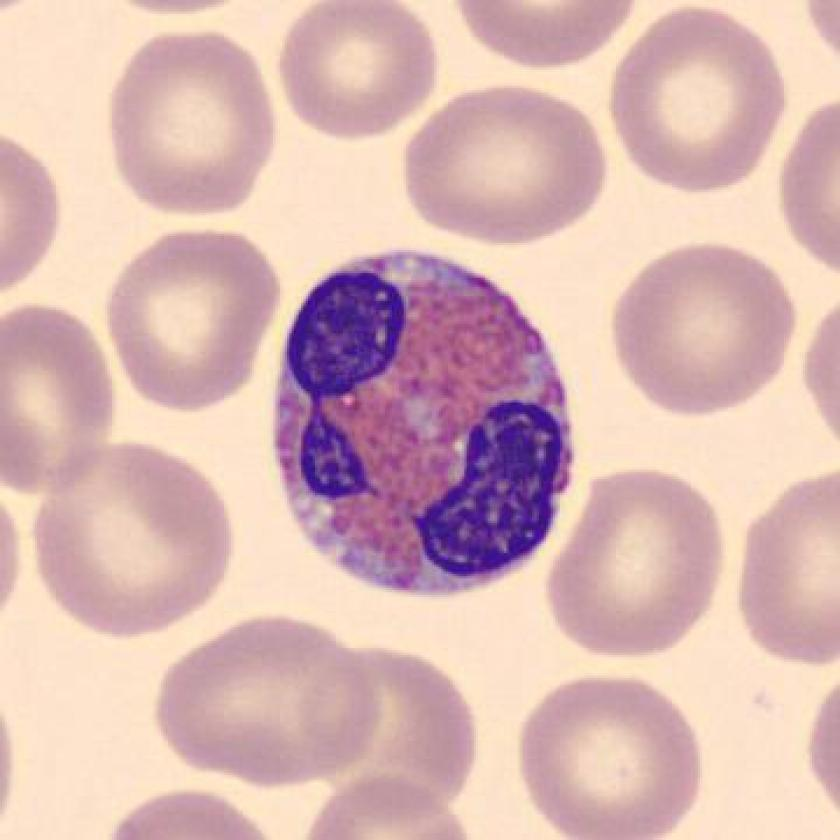eosinophil: (255, 230, 589, 612)
